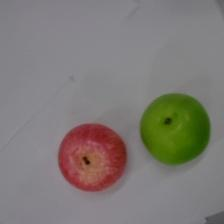green: (138, 91, 209, 165)
red: (56, 122, 128, 193)
